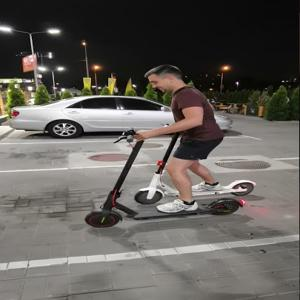human on a scooter: (83, 62, 257, 229)
